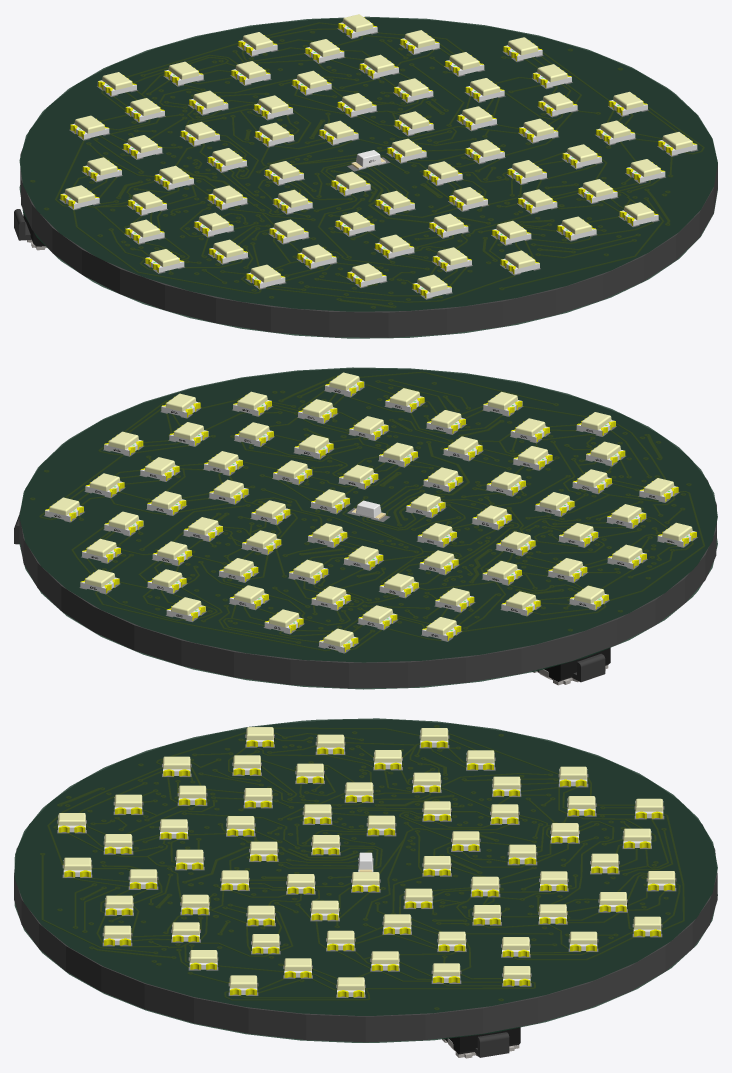
File: board.glb
The picture shows the model from 3 angles, top to bottom: view 1: azimuth 30°, elevation 25°; view 2: azimuth 150°, elevation 25°; view 3: azimuth 270°, elevation 25°; orthographic projection.
Parts seen in each view (by area): view 1: sunflower_soldermask (×2), sunflower_PCB, LED-ARRAY-SMD_4P-L1.6-W1.5-BR_XL-1615RGBC-RF (×66), sunflower_copper, sunflower_pad, SW-SMD_EVQP7C01P-L3.6-W3.5-H1.4-P3.6-LS4.7; view 2: sunflower_soldermask (×2), sunflower_PCB, LED-ARRAY-SMD_4P-L1.6-W1.5-BR_XL-1615RGBC-RF (×66), sunflower_copper, sunflower_pad, SW-SMD_EVQP7C01P-L3.6-W3.5-H1.4-P3.6-LS4.7; view 3: sunflower_soldermask (×2), sunflower_PCB, LED-ARRAY-SMD_4P-L1.6-W1.5-BR_XL-1615RGBC-RF (×66), sunflower_copper, sunflower_pad, SW-SMD_EVQP7C01P-L3.6-W3.5-H1.4-P3.6-LS4.7.
Part boxes in pixels (x1,y1,x2,y2): sunflower_soldermask (×2): (19, 16, 717, 338); sunflower_PCB: (20, 18, 717, 337); LED-ARRAY-SMD_4P-L1.6-W1.5-BR_XL-1615RGBC-RF (×66): (60, 14, 697, 298); sunflower_copper: (30, 23, 703, 308); sunflower_pad: (59, 28, 698, 299); SW-SMD_EVQP7C01P-L3.6-W3.5-H1.4-P3.6-LS4.7: (14, 209, 47, 250); sunflower_soldermask (×2): (19, 367, 717, 689); sunflower_PCB: (19, 369, 716, 688); LED-ARRAY-SMD_4P-L1.6-W1.5-BR_XL-1615RGBC-RF (×66): (45, 372, 696, 652); sunflower_copper: (30, 372, 704, 650); sunflower_pad: (44, 386, 697, 653); SW-SMD_EVQP7C01P-L3.6-W3.5-H1.4-P3.6-LS4.7: (532, 647, 610, 685); sunflower_soldermask (×2): (14, 718, 717, 1042); sunflower_PCB: (14, 720, 717, 1042); LED-ARRAY-SMD_4P-L1.6-W1.5-BR_XL-1615RGBC-RF (×66): (58, 727, 675, 997); sunflower_copper: (40, 726, 683, 1009); sunflower_pad: (57, 734, 676, 997); SW-SMD_EVQP7C01P-L3.6-W3.5-H1.4-P3.6-LS4.7: (442, 1027, 520, 1058).
Size of the model in its own units: 0.038 by 0.00363 by 0.038.
